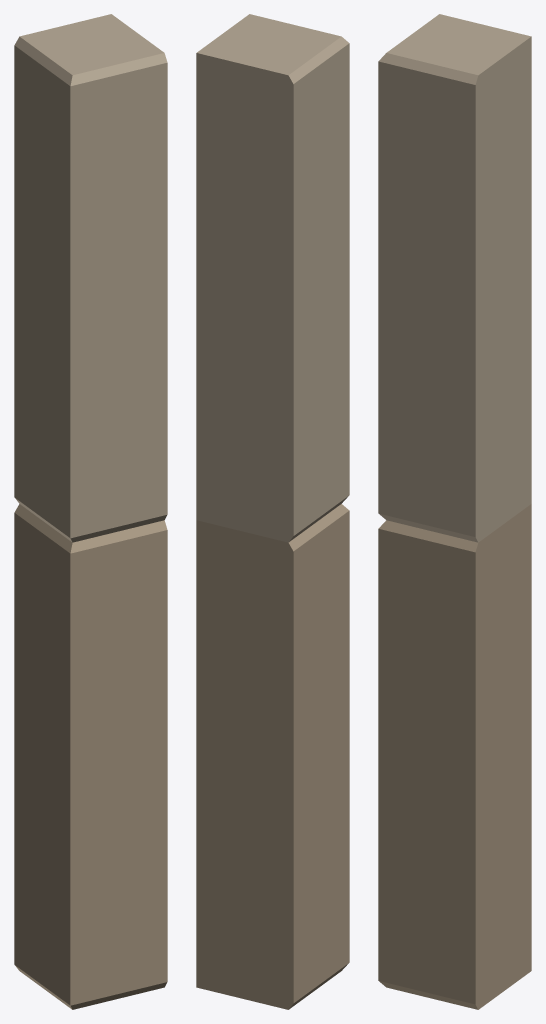
Rendered from Pillar_Exterior_04.glb.
3 views of the same model, side by side, from view 1: azimuth 30°, elevation 25°; view 2: azimuth 150°, elevation 25°; view 3: azimuth 330°, elevation 25° (orthographic).
Visible parts, largest first — view 1: SM_Env_Pillar_Exterior_04; view 2: SM_Env_Pillar_Exterior_04; view 3: SM_Env_Pillar_Exterior_04.
Part boxes in pixels (x1,y1,x2,y2): SM_Env_Pillar_Exterior_04: (14,14,167,1009); SM_Env_Pillar_Exterior_04: (196,14,349,1009); SM_Env_Pillar_Exterior_04: (378,14,531,1009).
Bounding box in the file's own units: 0.326 × 3 × 0.326.
1 material, 1 textured.
